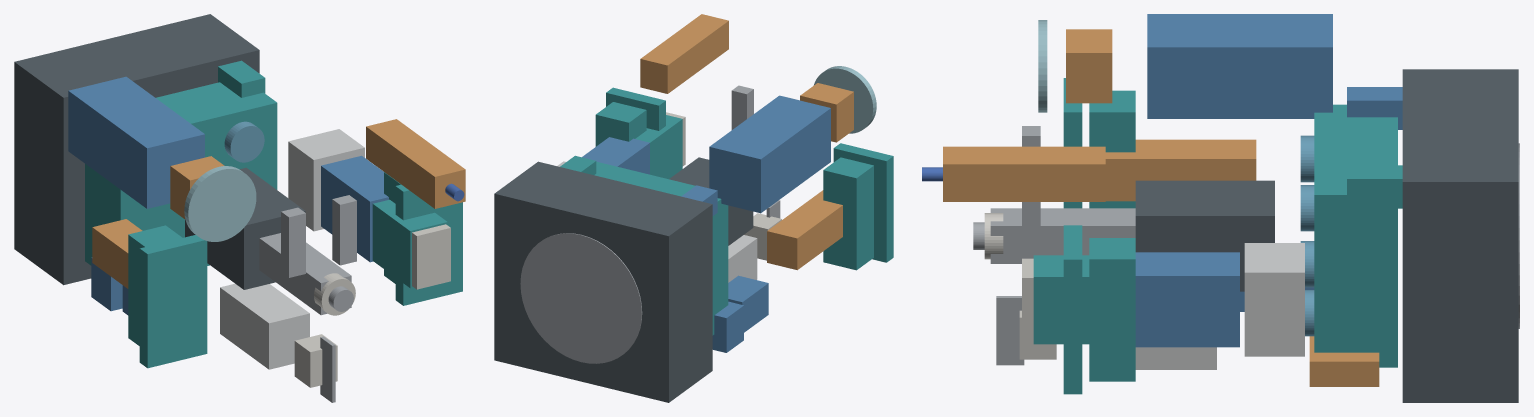
Rendered from dranmar_tumor_resection_tool_mark.glb.
The picture shows the model from 3 angles, left to right: view 1: azimuth 30°, elevation 25°; view 2: azimuth 150°, elevation 25°; view 3: azimuth 270°, elevation 25°; orthographic projection. The views are drawn at different scales.
Visible parts, largest first — view 1: Mount_MountBody, BagDeployer_BagDeployerBody, SensorTurret_SensorTurretBody, LeftTraction_LeftPad, ScissorCarriage_ScissorCarriageBody, MarginMarker_MarginMarkerBody, AspiratorCarriage_AspiratorCarriageBody, BagDeployer_BagRing, UltrasoundCarriage_UltrasoundCarriageBody, UltrasoundPitch_UltrasoundPitchBody, UltrasoundCompliance_UltrasoundComplianceBody, RightTraction_RightPad (+14 smaller); view 2: Mount_MountBody, Mount_MountRing, BagDeployer_BagDeployerBody, LeftTraction_LeftTractionBody, MarginMarker_MarginMarkerBody, RamanProbe_RamanProbeBody, SensorTurret_SensorTurretBody, LeftTraction_LeftPad, UltrasoundCompliance_UltrasoundComplianceBody, BagDeployer_BagRing, RightTraction_RightTractionBody, BagClosure_BagClosureBody (+10 smaller); view 3: Mount_MountBody, BagDeployer_BagDeployerBody, SensorTurret_SensorTurretBody, AspiratorCarriage_AspiratorCarriageBody, UltrasoundPitch_UltrasoundPitchBody, MarginMarker_MarginMarkerBody, UltrasoundCarriage_UltrasoundCarriageBody, RightTraction_RightTractionBody, RamanProbe_RamanProbeBody, AspiratorRotor_AspiratorRotorBody, BagClosure_BagClosureBody, UltrasoundCompliance_UltrasoundComplianceBody (+15 smaller).
Boxes of the visible parts, x1,y1,x2,y2 form: Mount_MountBody: (14, 14, 259, 285); BagDeployer_BagDeployerBody: (68, 76, 204, 208); SensorTurret_SensorTurretBody: (85, 82, 277, 265); LeftTraction_LeftPad: (139, 235, 207, 368); ScissorCarriage_ScissorCarriageBody: (220, 283, 309, 369); MarginMarker_MarginMarkerBody: (366, 119, 465, 208); AspiratorCarriage_AspiratorCarriageBody: (185, 167, 305, 289); BagDeployer_BagRing: (184, 166, 256, 241); UltrasoundCarriage_UltrasoundCarriageBody: (288, 129, 364, 231); UltrasoundPitch_UltrasoundPitchBody: (321, 155, 388, 262); UltrasoundCompliance_UltrasoundComplianceBody: (372, 199, 447, 288); RightTraction_RightPad: (395, 184, 462, 305); Mount_MountBody: (494, 161, 712, 402); Mount_MountRing: (520, 233, 642, 363); BagDeployer_BagDeployerBody: (709, 95, 830, 213); LeftTraction_LeftTractionBody: (823, 157, 873, 270); MarginMarker_MarginMarkerBody: (640, 14, 728, 93); RamanProbe_RamanProbeBody: (767, 190, 842, 270); SensorTurret_SensorTurretBody: (594, 161, 728, 335); LeftTraction_LeftPad: (833, 143, 893, 262); UltrasoundCompliance_UltrasoundComplianceBody: (635, 115, 682, 179); BagDeployer_BagRing: (813, 66, 876, 133); RightTraction_RightTractionBody: (595, 102, 646, 146); BagClosure_BagClosureBody: (800, 83, 853, 142); Mount_MountBody: (1402, 69, 1518, 402); BagDeployer_BagDeployerBody: (1147, 14, 1332, 118); SensorTurret_SensorTurretBody: (1314, 104, 1397, 367); AspiratorCarriage_AspiratorCarriageBody: (1135, 180, 1274, 291); UltrasoundPitch_UltrasoundPitchBody: (1135, 252, 1239, 347); MarginMarker_MarginMarkerBody: (943, 146, 1105, 201); UltrasoundCarriage_UltrasoundCarriageBody: (1244, 243, 1304, 356); RightTraction_RightTractionBody: (1089, 238, 1135, 381); RamanProbe_RamanProbeBody: (1105, 139, 1256, 201); AspiratorRotor_AspiratorRotorBody: (990, 208, 1135, 263); BagClosure_BagClosureBody: (1066, 29, 1112, 103); UltrasoundCompliance_UltrasoundComplianceBody: (1033, 255, 1089, 344).
Size of the model in its own units: 0.185 by 0.136 by 0.2575.
